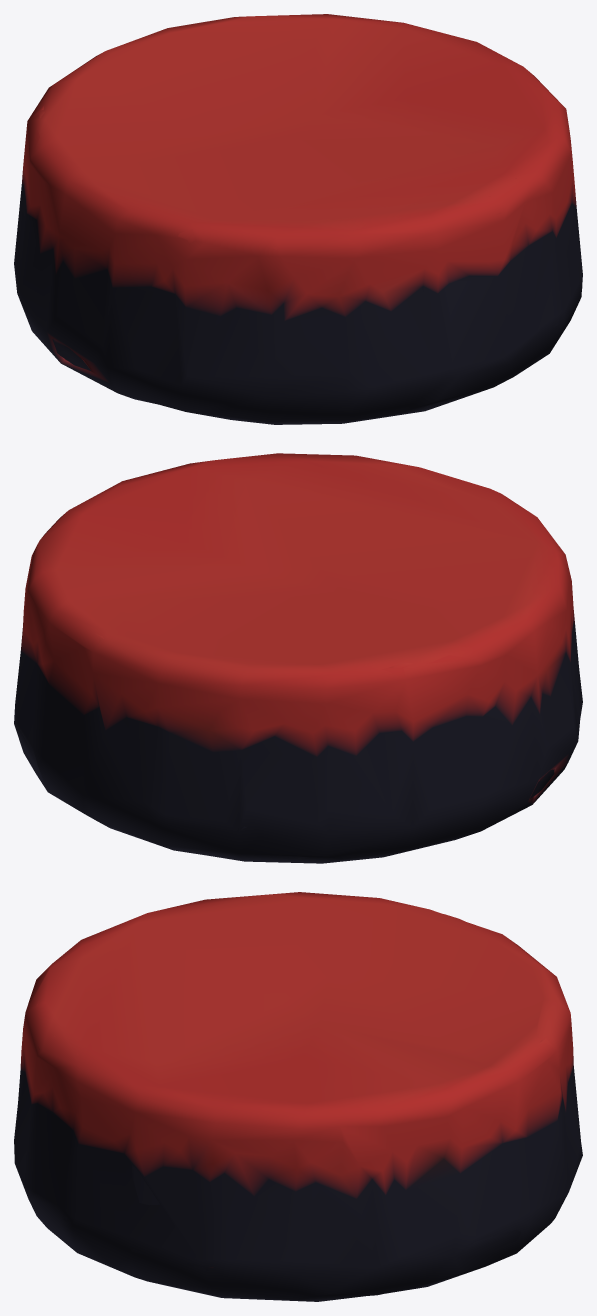
The model's file is gen3d-hockey-puck-lod0.glb.
3 views of the same model, one above another, from view 1: azimuth 30°, elevation 25°; view 2: azimuth 150°, elevation 25°; view 3: azimuth 270°, elevation 25° (orthographic).
Parts seen in each view (by area): view 1: part_0; view 2: part_0; view 3: part_0.
Boxes of the visible parts, x1=… form: part_0: x1=14, y1=14, x2=582, y2=424; part_0: x1=14, y1=453, x2=582, y2=863; part_0: x1=14, y1=892, x2=582, y2=1301.
Bounding box in the file's own units: 2.61 × 0.9997 × 2.61.
